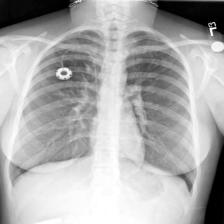normal: (5, 20, 205, 207)
